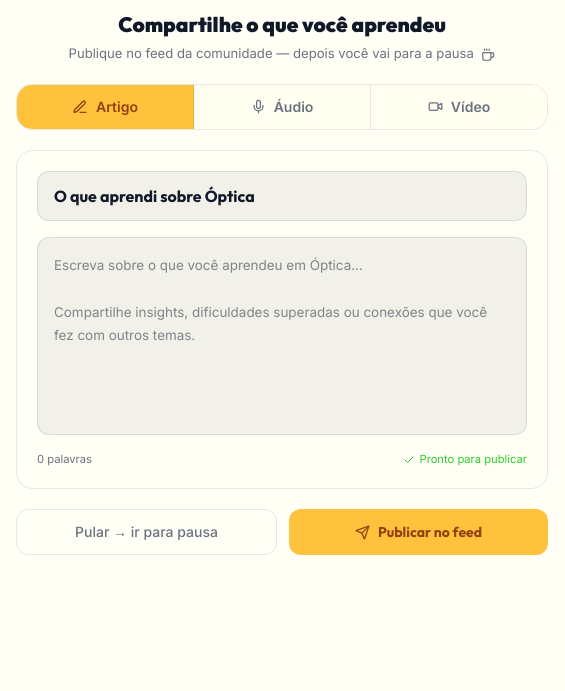
Scenario: PostPublisher › sem suporte a gravação, áudio mostra aviso e texto continua disponível
The width and height of the screenshot is (565, 691).
Step 1. Click the button "Áudio" → coordinates (282, 107), box [194,85,371,129]
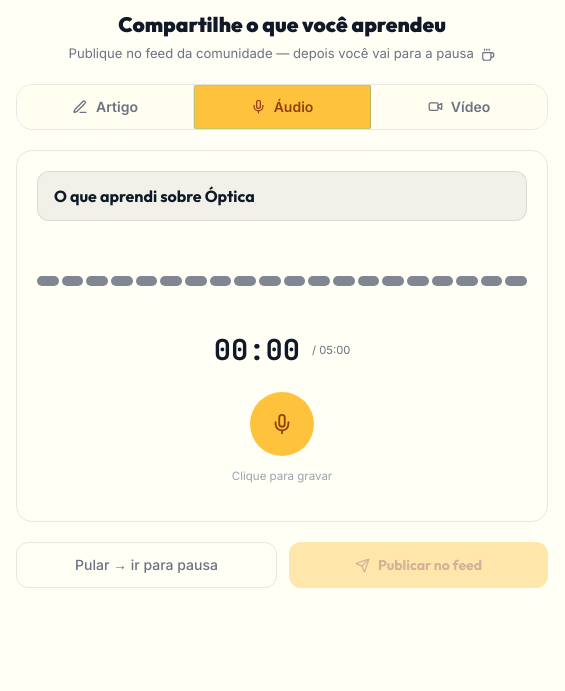
Step 2. Click the button named "gravar" → coordinates (282, 424), box [250,392,314,456]
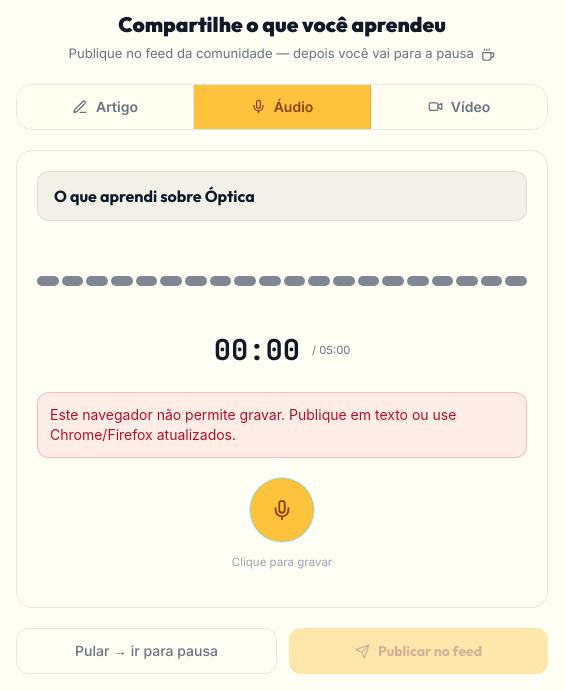
Expected: the message shows "não permite gravar", [50,406,456,443]
// O protótipo chama a aba de texto de "Artigo".
Step 3. Click the button "Artigo" → coordinates (106, 107), box [17,85,194,129]
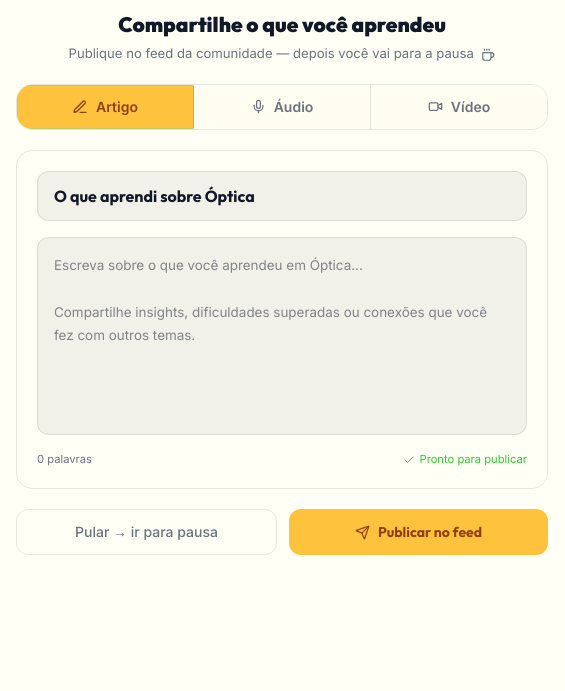
Expected: the button "Publicar no feed" is enabled, [289,509,548,555]
